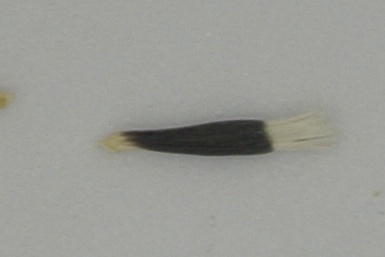เมล็ดดีติดกัน: (97, 108, 338, 156)
